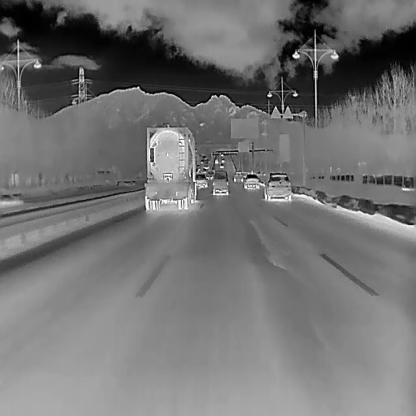car: (143, 124, 197, 210), (263, 172, 291, 200), (212, 169, 228, 195), (243, 173, 259, 188), (195, 172, 207, 188), (233, 170, 243, 182), (219, 162, 224, 168), (202, 154, 207, 160), (202, 167, 207, 173), (221, 159, 226, 164), (214, 159, 218, 164)
